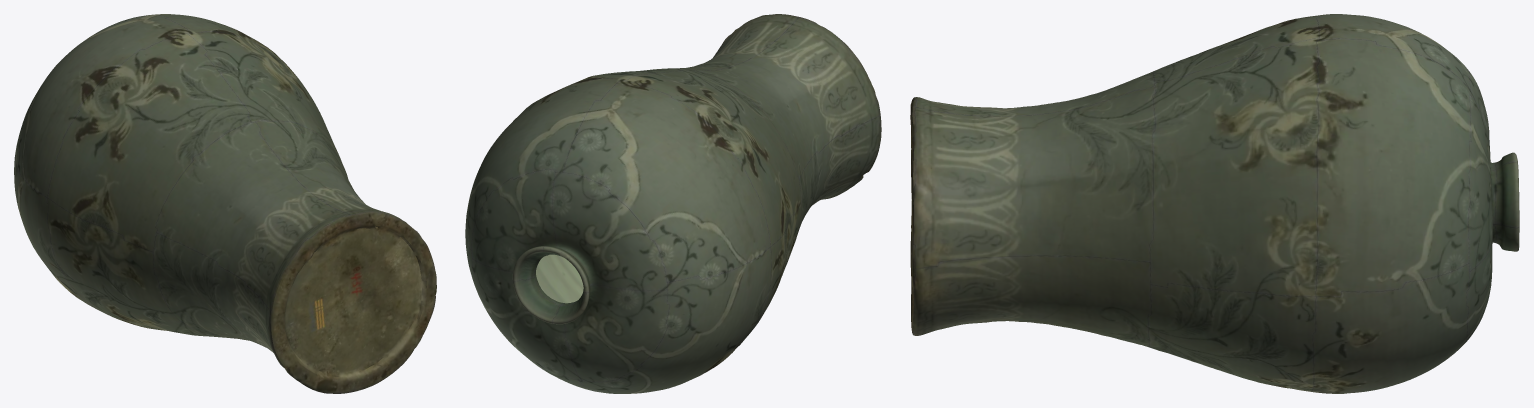
Rendered from nmk-974.glb.
3 views of the same model, side by side, from view 1: azimuth 30°, elevation 25°; view 2: azimuth 150°, elevation 25°; view 3: azimuth 270°, elevation 25° (orthographic). The views are drawn at different scales.
Visible parts, largest first — view 1: duk000434-000-30000; view 2: duk000434-000-30000; view 3: duk000434-000-30000.
Part boxes in pixels (x1,y1,x2,y2): duk000434-000-30000: [14, 14, 436, 393]; duk000434-000-30000: [465, 14, 881, 393]; duk000434-000-30000: [910, 14, 1519, 393].
Bounding box in the file's own units: 0.9319 × 0.9387 × 1.5.
1 material, 1 textured.
